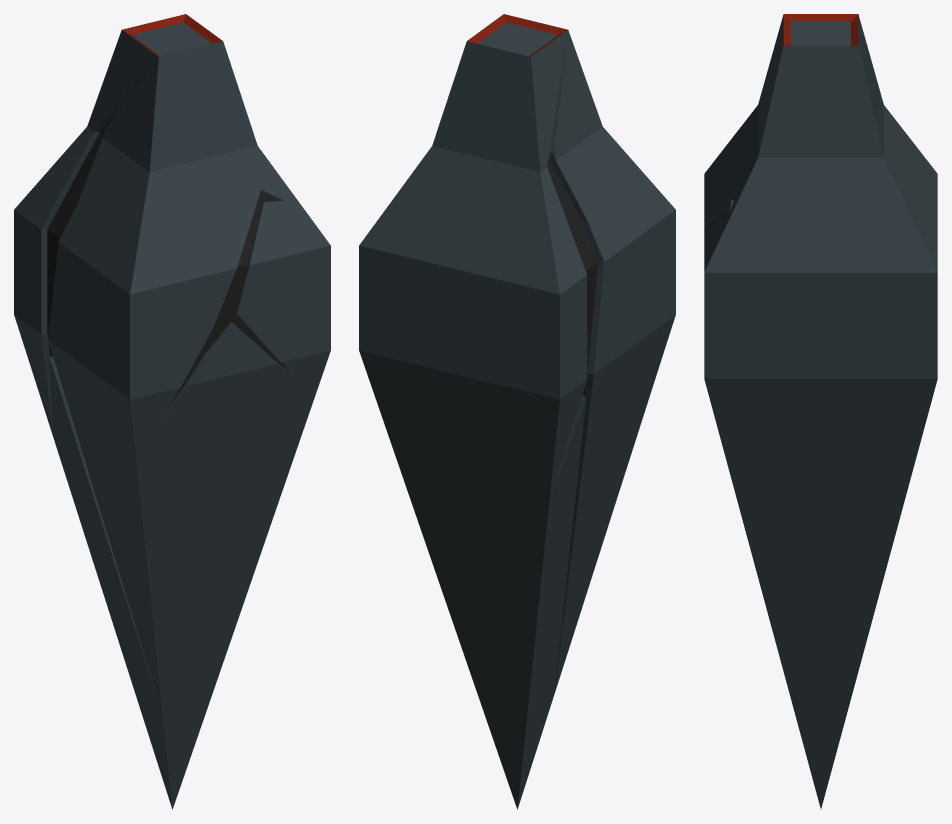
File: Obelisk.glb
3 views of the same model, side by side, from view 1: azimuth 30°, elevation 25°; view 2: azimuth 150°, elevation 25°; view 3: azimuth 270°, elevation 25° (orthographic).
Visible parts, largest first — view 1: Obelisk; view 2: Obelisk; view 3: Obelisk.
Part boxes in pixels (<box>): Obelisk: <box>14,14,330,809</box>; Obelisk: <box>359,14,675,809</box>; Obelisk: <box>704,14,937,808</box>.
Size of the model in its own units: 2 by 7.37 by 2.
Materials: 1 (1 with a texture image).
